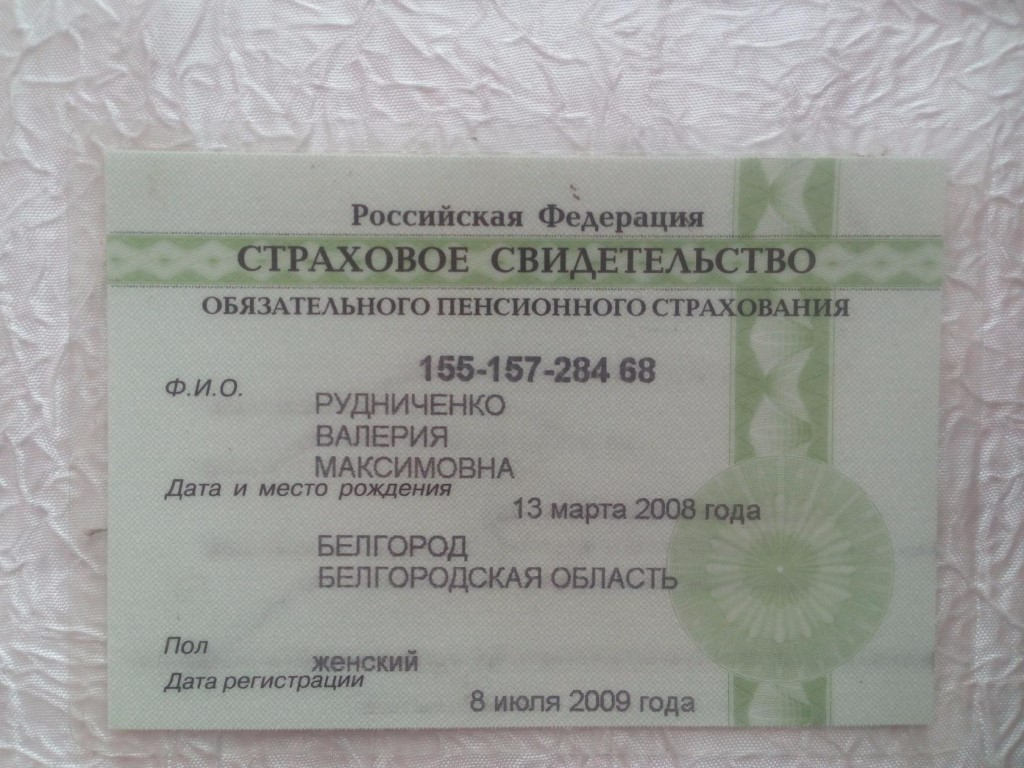text: (308, 524, 686, 601), (511, 490, 765, 530), (417, 347, 667, 386), (457, 685, 702, 718), (300, 384, 511, 420), (306, 450, 516, 481), (303, 420, 456, 448), (307, 650, 424, 675)
